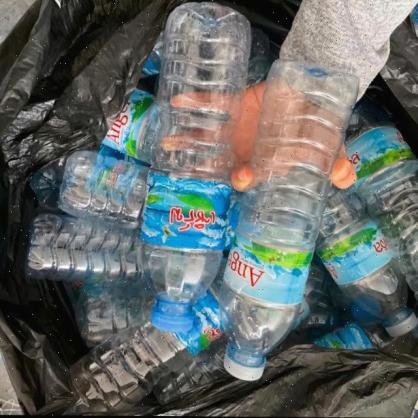bottle: (218, 56, 358, 382), (139, 0, 252, 332)
cap: (223, 349, 267, 382), (150, 307, 196, 332)
label: (141, 173, 227, 252), (225, 234, 312, 306)
